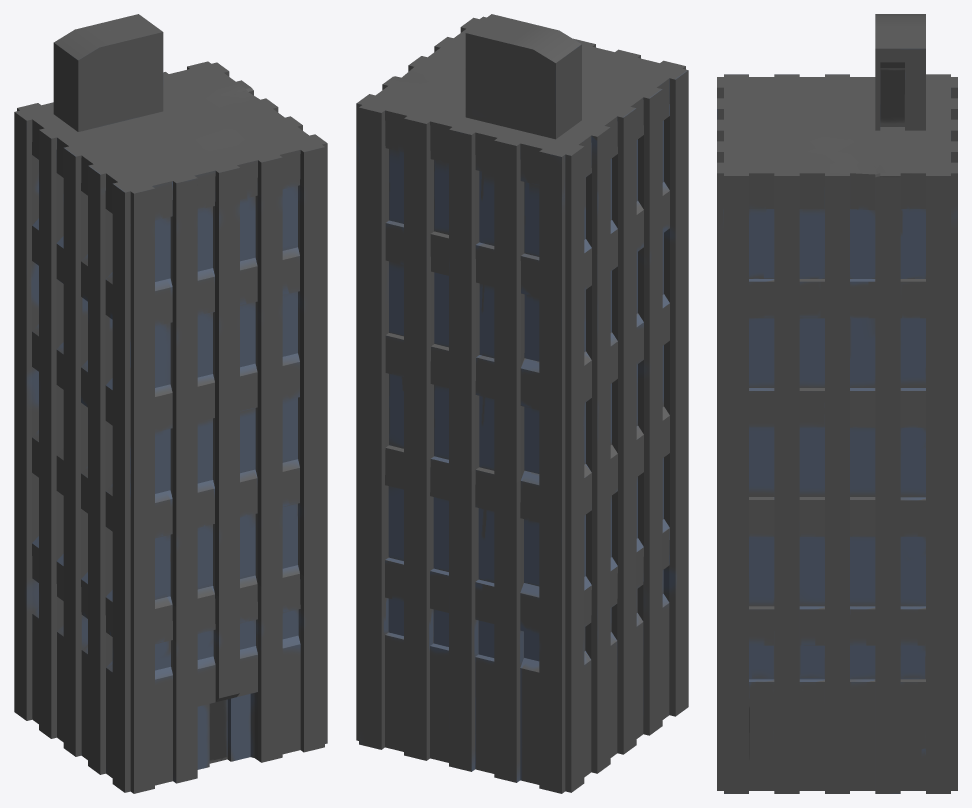
Rendered from skyscraper.fbx.
The picture shows the model from 3 angles, left to right: view 1: azimuth 30°, elevation 25°; view 2: azimuth 150°, elevation 25°; view 3: azimuth 270°, elevation 25°; orthographic projection. The views are drawn at different scales.
Visible parts, largest first — view 1: Box001; view 2: Box001; view 3: Box001.
Boxes of the visible parts, box(x1,y1,x2,y2) form: Box001: box(14, 14, 327, 793); Box001: box(356, 14, 688, 793); Box001: box(717, 14, 957, 793).
Size of the model in its own units: 1060 by 3399 by 1060.
1 material, 1 textured.
